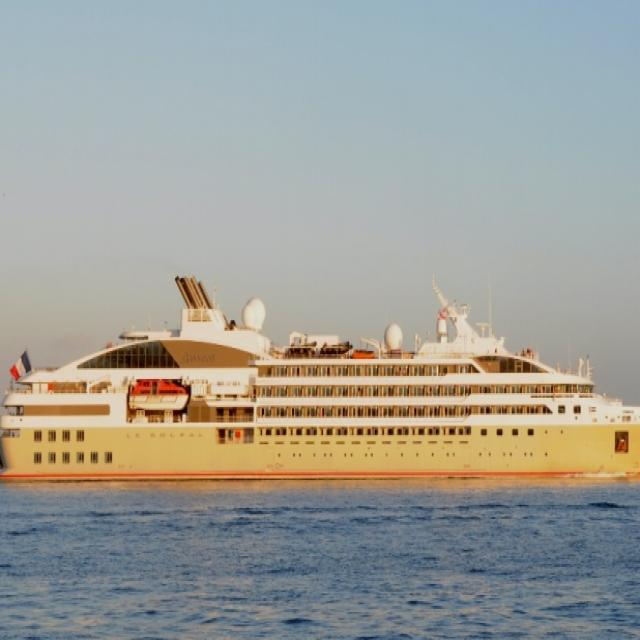cruises: (1, 273, 640, 492)
